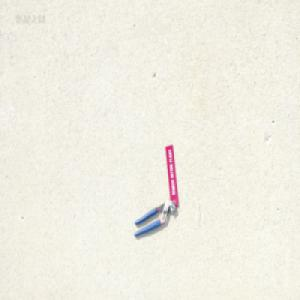Label: (165, 143, 178, 206)
Pliers: (133, 200, 175, 238)
